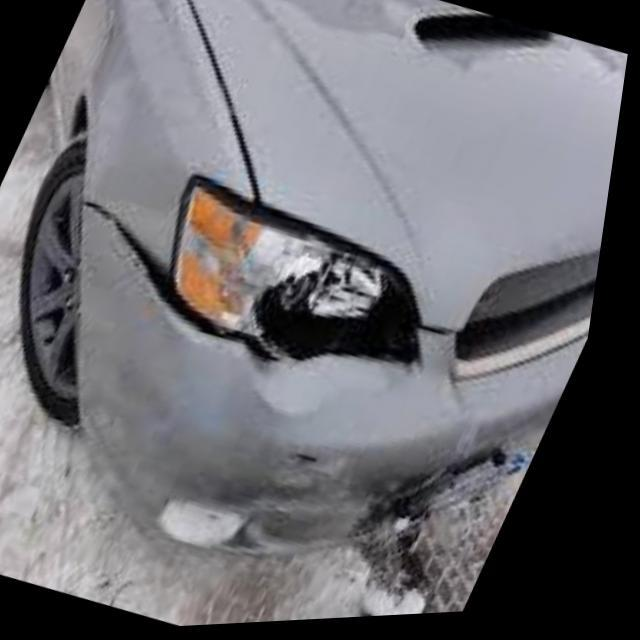lamp broken: (76, 203, 467, 419)
rub: (263, 448, 396, 563)
